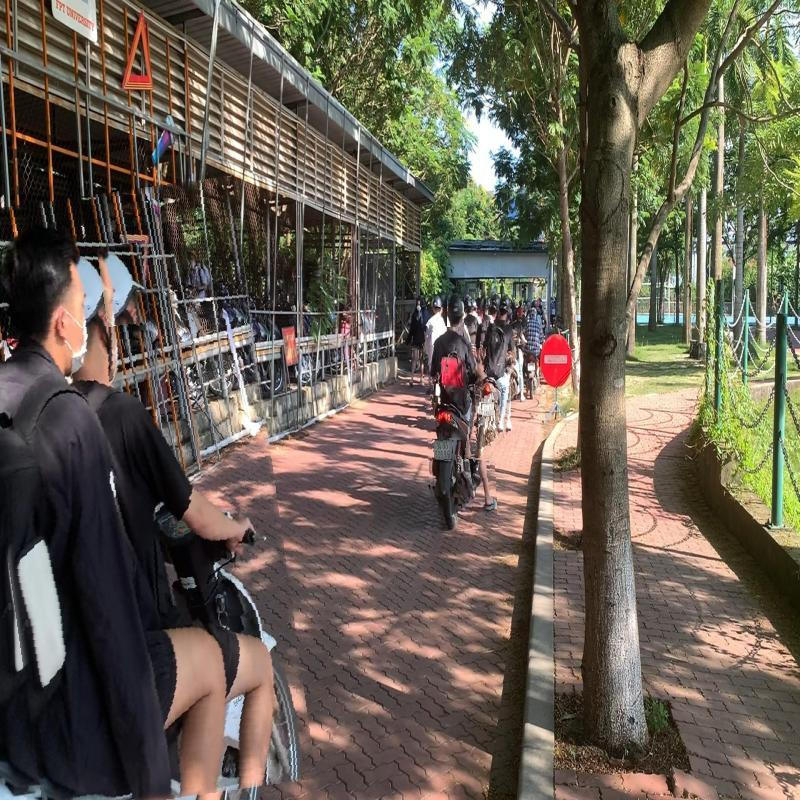helmet: (100, 244, 148, 326), (447, 292, 464, 327), (489, 294, 501, 316)
licenseplate: (433, 439, 454, 461), (482, 403, 496, 417)
motorcyclist: (0, 183, 295, 800), (423, 292, 496, 530), (470, 293, 519, 463)
nohelmet: (24, 204, 119, 376)
